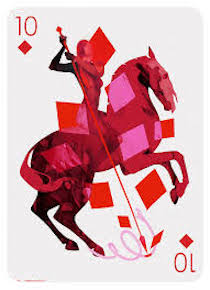TenOfDiamonds: (4, 8, 201, 282)
